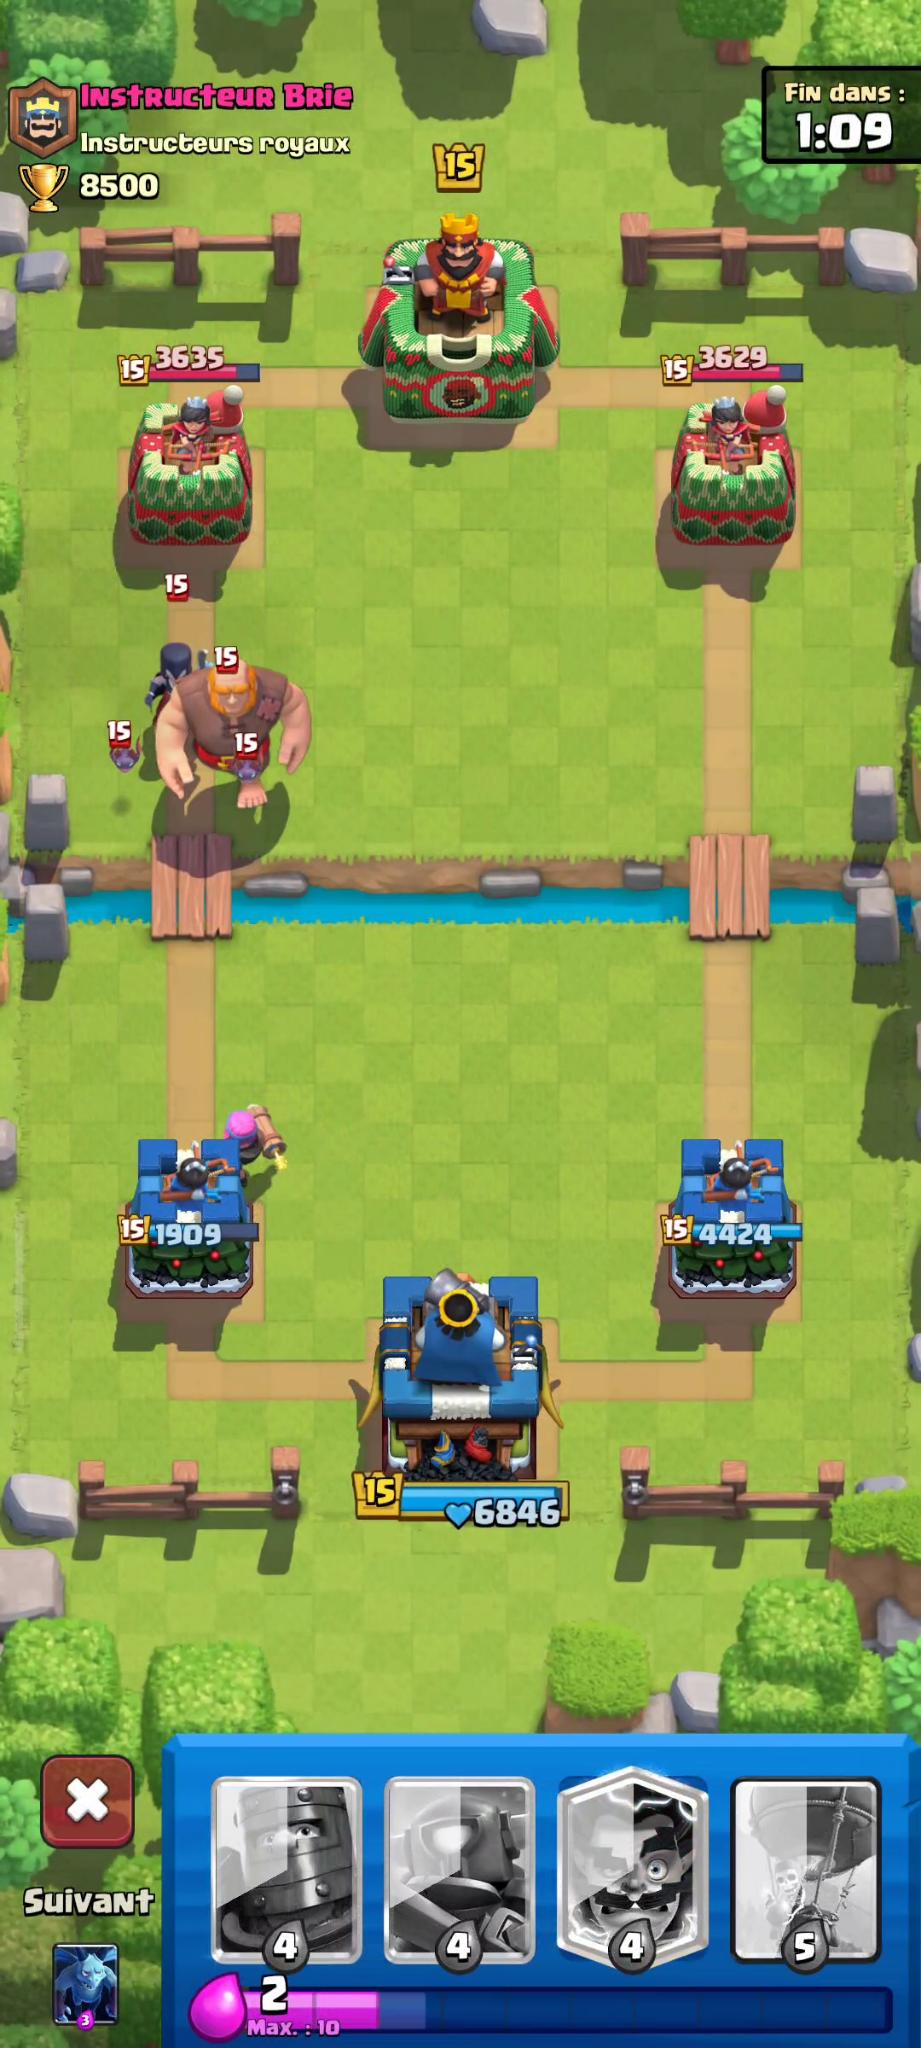bat: (89, 724, 155, 780), (218, 734, 282, 786)
geant: (158, 645, 320, 822)
